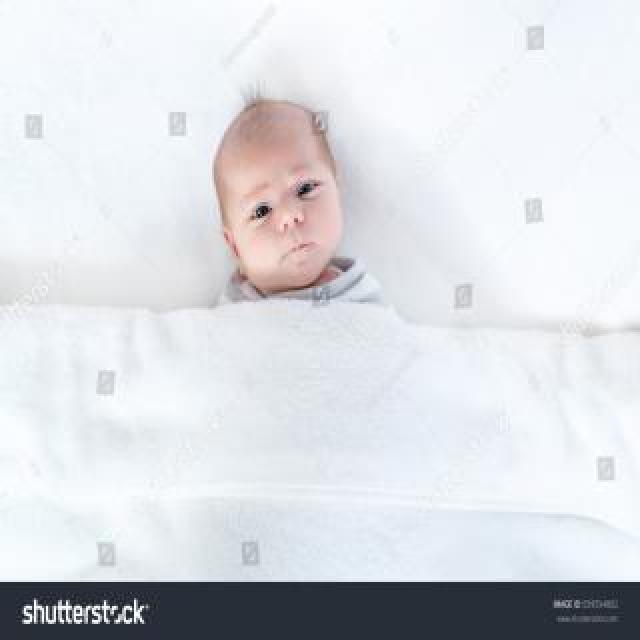baby: (172, 100, 422, 578)
